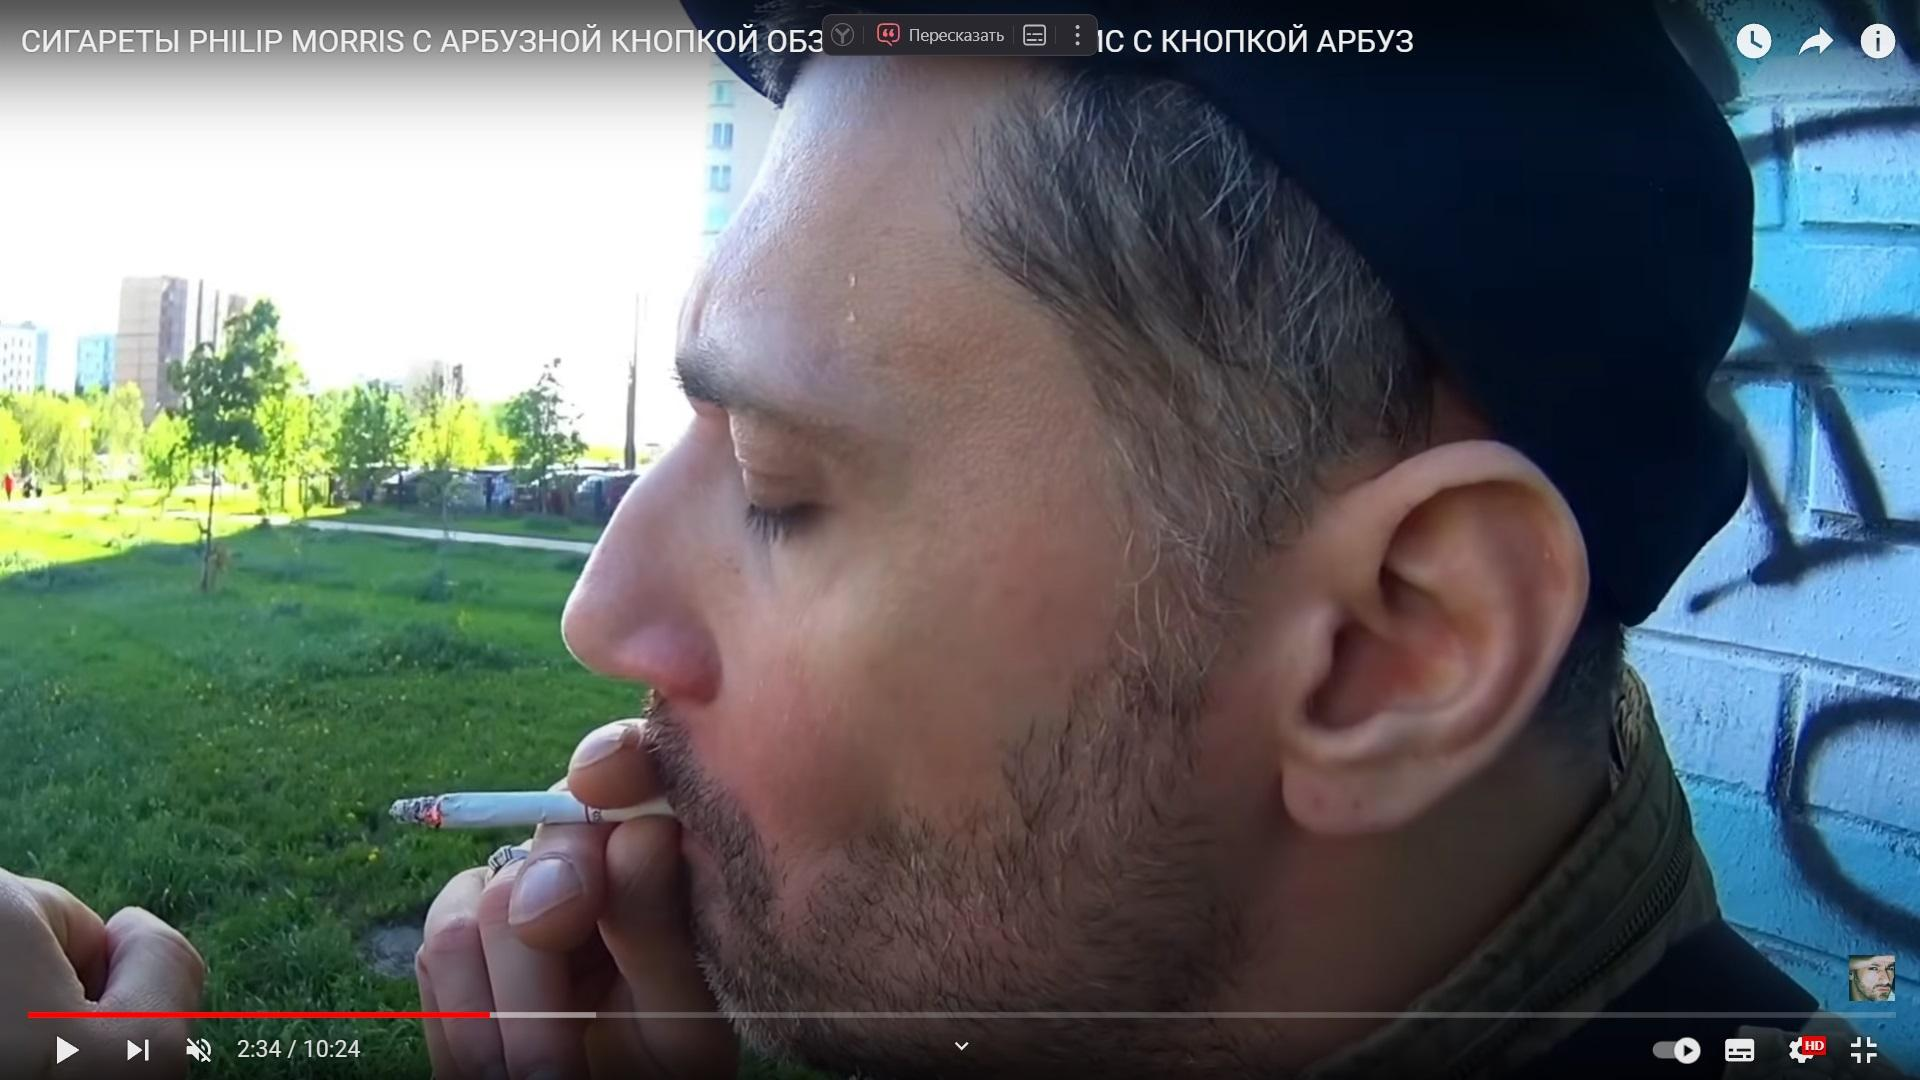cigarette: (389, 791, 679, 832)
